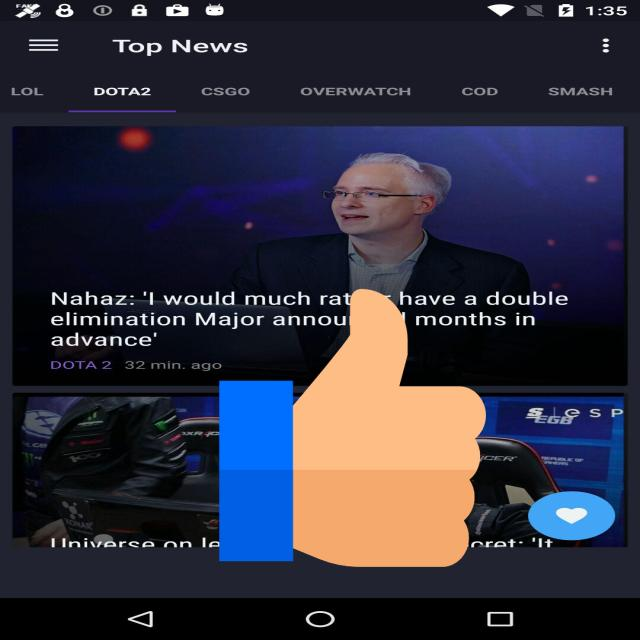privacy zuckering: (219, 282, 486, 574)
